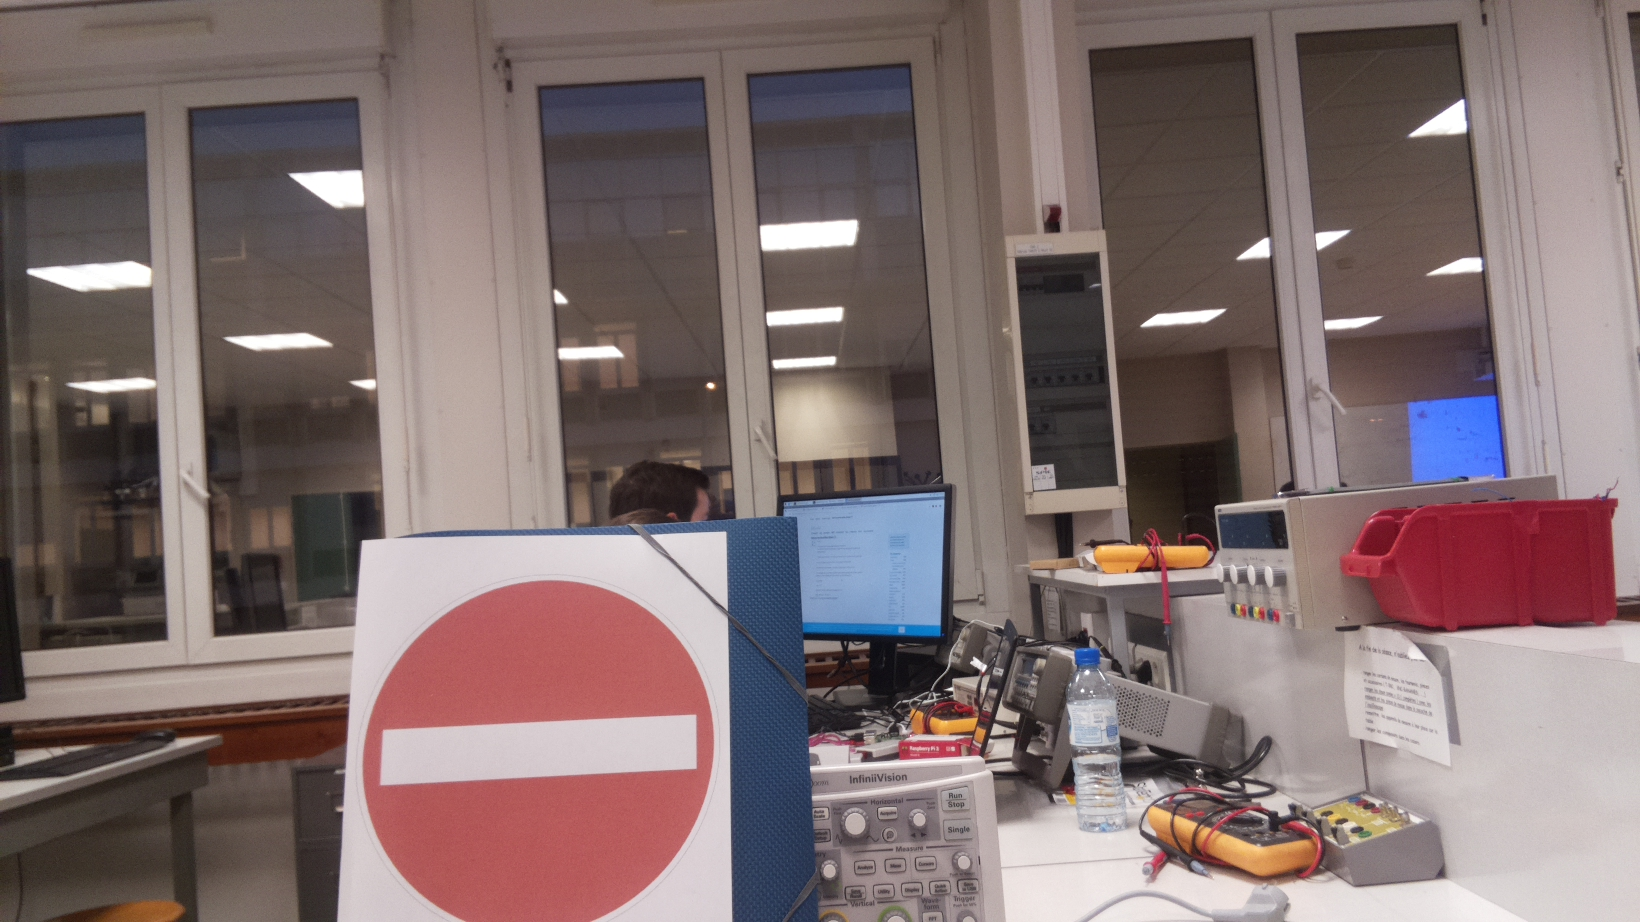prohibited: (356, 574, 721, 922)
